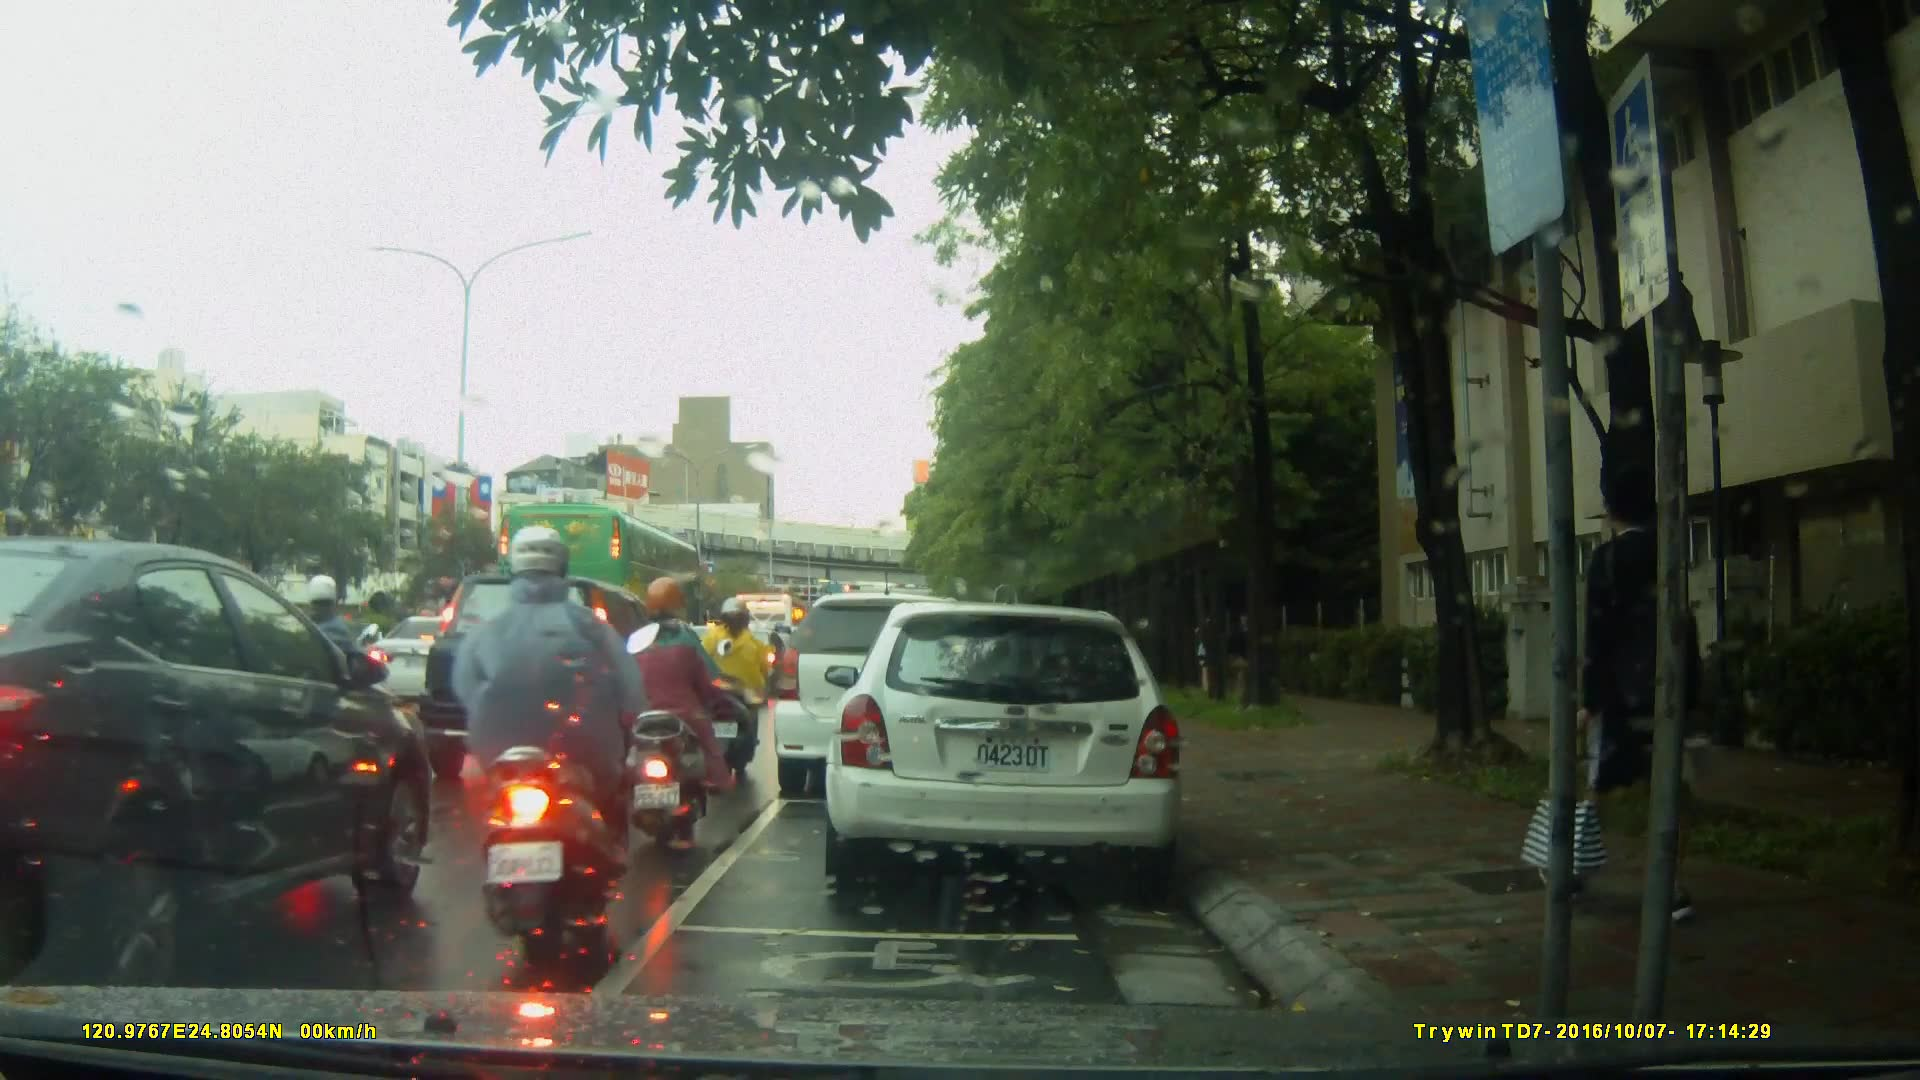pedestrian: (1524, 455, 1704, 923)
rider: (420, 521, 643, 959), (613, 579, 711, 853), (284, 578, 391, 786), (698, 595, 780, 774)
vehicle: (9, 533, 438, 987), (831, 592, 1196, 897), (421, 570, 678, 788), (770, 592, 999, 800), (493, 500, 705, 658)
